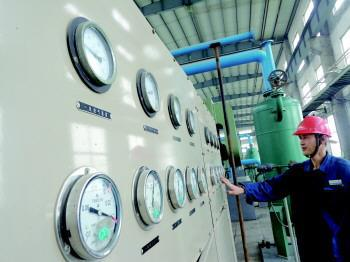helmet: (290, 112, 334, 162)
